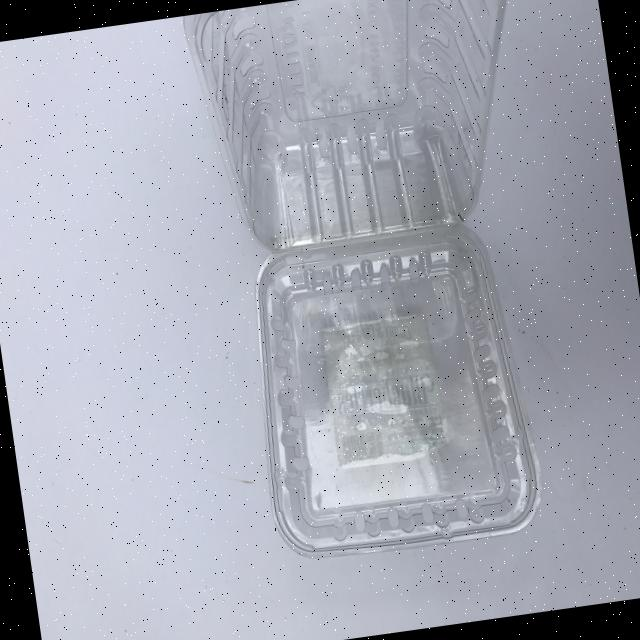plastic: (181, 0, 594, 571)
